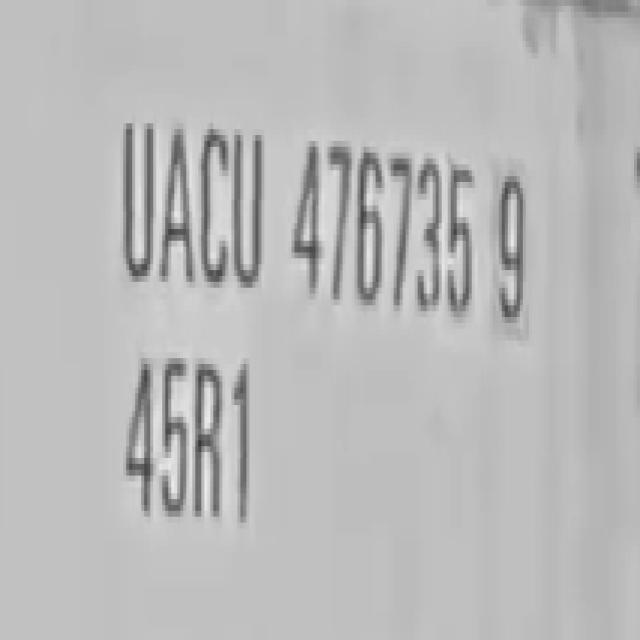dv: (487, 150, 540, 337)
owner: (107, 96, 270, 301)
serial: (285, 123, 478, 332)
size: (112, 334, 268, 549)
